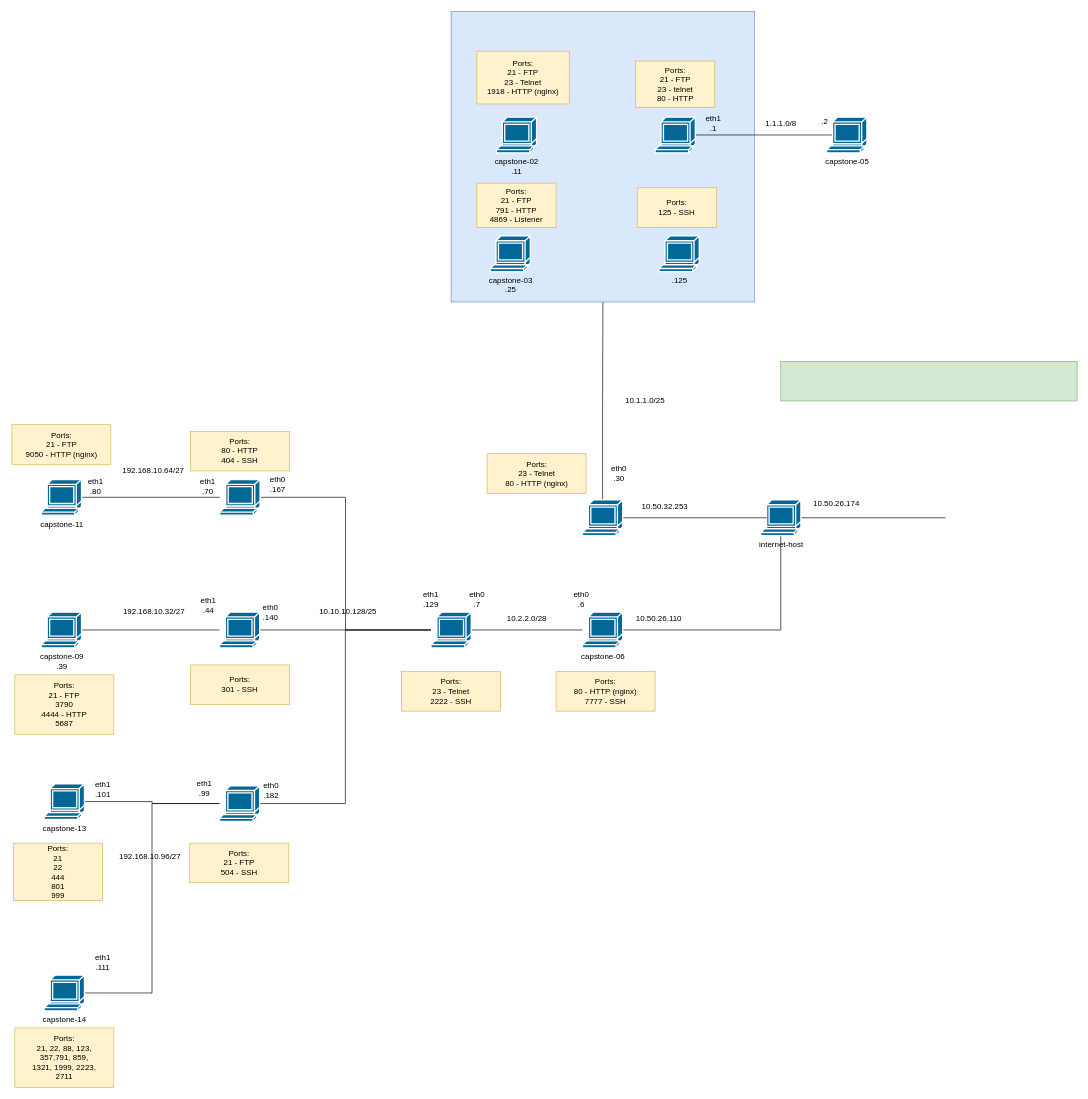
Some shapes in this 1088 by 1099 pixel diagram are drawn without their labels. Here are the shapes that lost their labels. From the top down, the centre of each, then its label:
At (675,134): "capstone-04 .33".
At (928,381): "Tunnels: 21201 - IH -> 10.1.1.11 (telnet)".
At (239,496): "capstone-10".
At (602,517): "capstone-01".
At (239,629): "capstone-08".
At (451,629): "capstone-07".
At (239,803): "capstone-12".
